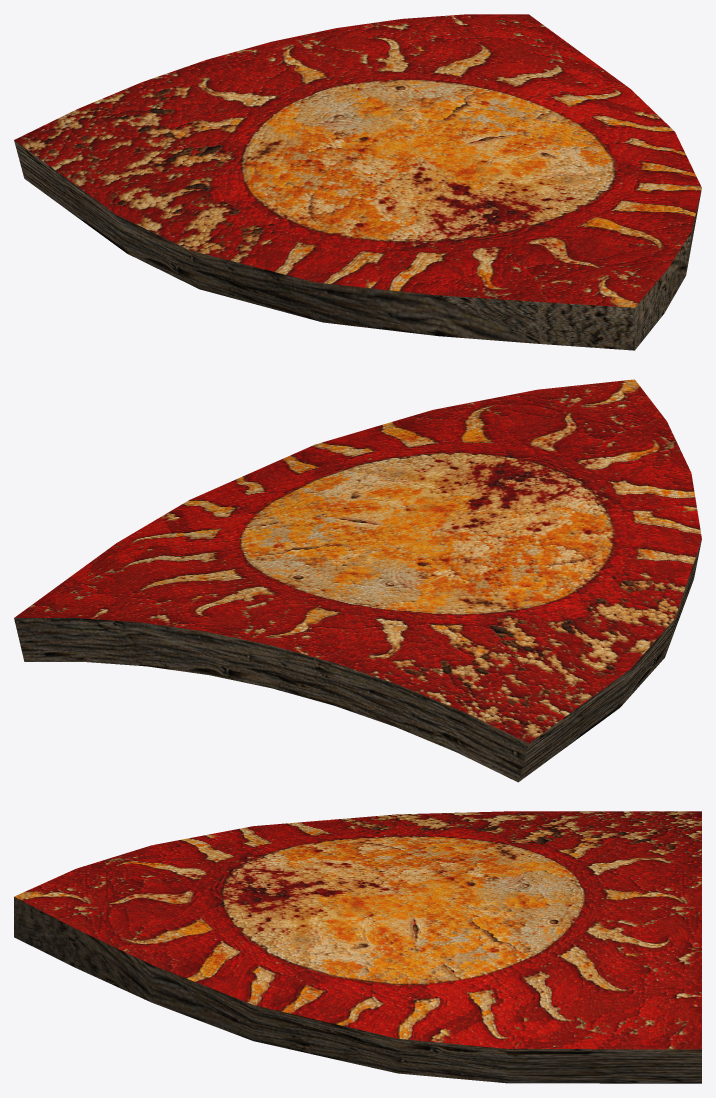
File: mm9_deco_shield3flat.glb
3 renders of one model, top to bottom at view 1: azimuth 30°, elevation 25°; view 2: azimuth 150°, elevation 25°; view 3: azimuth 270°, elevation 25°, orthographic. The views are drawn at different scales.
Visible parts, largest first — view 1: Shield3flat; view 2: Shield3flat; view 3: Shield3flat.
Part boxes in pixels (x1,y1,x2,y2): Shield3flat: (14,14,701,350); Shield3flat: (14,379,701,782); Shield3flat: (14,811,701,1083).
Size of the model in its own units: 0.9023 by 0.1288 by 1.1.
Materials: 1 (1 with a texture image).
